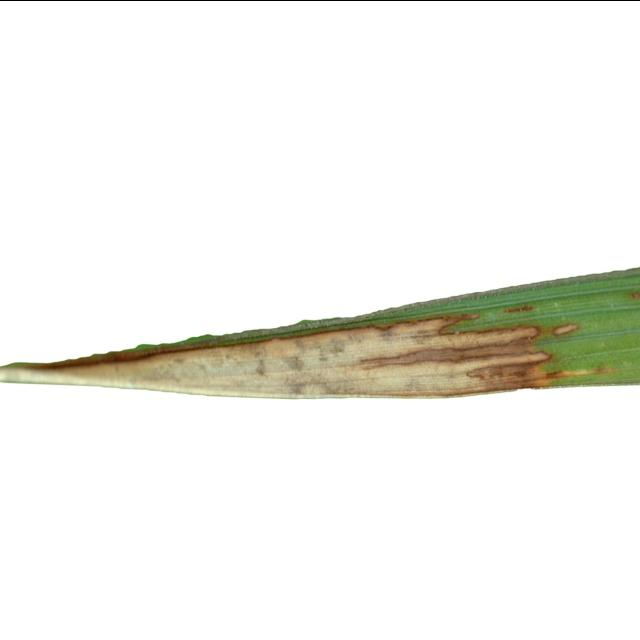Leaf scald: (0, 200, 640, 435)
